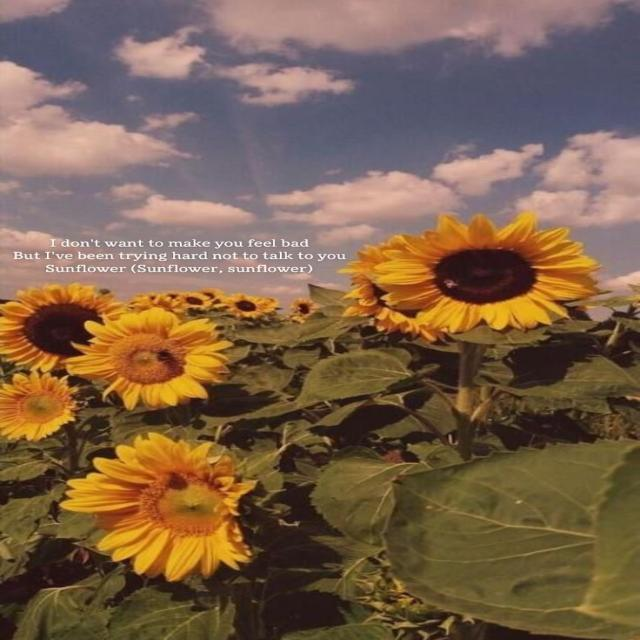sunflower: (59, 432, 258, 582), (368, 211, 601, 336), (62, 306, 234, 411), (0, 282, 126, 373), (336, 246, 452, 342), (0, 371, 79, 442), (220, 293, 270, 319), (134, 295, 186, 315), (178, 292, 212, 310), (290, 298, 318, 316), (202, 296, 224, 308), (197, 289, 220, 300), (126, 299, 144, 310), (164, 292, 182, 300), (143, 294, 164, 300), (290, 316, 304, 324)
